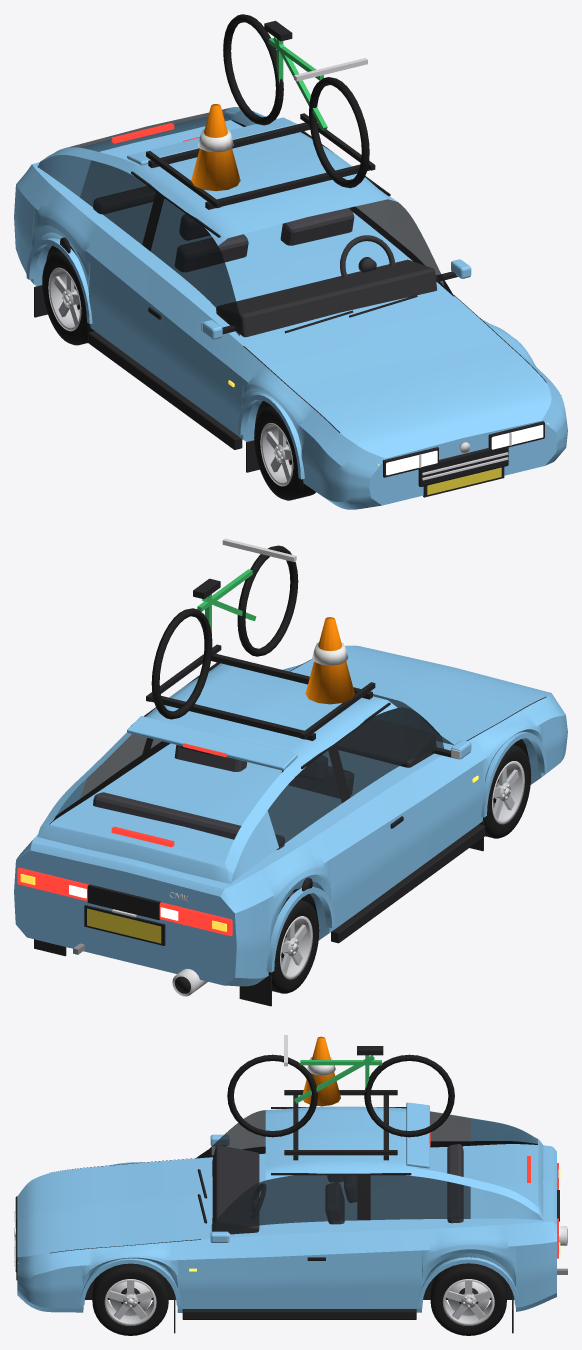
The model's file is civik.glb.
3 views of the same model, one above another, from view 1: azimuth 30°, elevation 25°; view 2: azimuth 150°, elevation 25°; view 3: azimuth 270°, elevation 25° (orthographic). The views are drawn at different scales.
Parts seen in each view (by area): view 1: hood, tub, cabin_roof, nose, cabin_glass, door_R, quarter_R, dash, fender_R, wheel_FR, wheel_RR, skirt_R (+19 smaller); view 2: tail, tub, cabin_roof, cabin_glass, door_R, quarter_R, hood, fender_R, spoiler, wheel_RR, dash, wheel_FR (+20 smaller); view 3: tub, hood, cabin_glass, cabin_roof, door_L, quarter_L, fender_L, wheel_RL, wheel_FL, nose, dash, tail (+15 smaller).
Part boxes in pixels (<box>): hood: <box>244,295,545,432</box>; tub: <box>41,126,451,345</box>; cabin_roof: <box>37,107,397,245</box>; nose: <box>323,383,567,509</box>; cabin_glass: <box>67,107,443,335</box>; door_R: <box>129,264,243,428</box>; quarter_R: <box>25,175,145,357</box>; dash: <box>216,259,436,337</box>; fender_R: <box>227,347,339,504</box>; wheel_FR: <box>254,406,316,500</box>; wheel_RR: <box>42,248,94,345</box>; skirt_R: <box>88,331,242,449</box>; tail: <box>14,834,259,986</box>; tub: <box>50,743,450,879</box>; cabin_roof: <box>37,663,397,883</box>; cabin_glass: <box>80,694,453,847</box>; door_R: <box>355,755,469,903</box>; quarter_R: <box>243,810,371,986</box>; hood: <box>290,648,545,747</box>; fender_R: <box>461,697,562,831</box>; spoiler: <box>127,716,297,770</box>; wheel_RR: <box>268,897,319,993</box>; dash: <box>337,718,436,767</box>; wheel_FR: <box>483,745,531,838</box>; tub: <box>201,1144,529,1239</box>; hood: <box>49,1158,200,1252</box>; cabin_glass: <box>211,1110,470,1231</box>; cabin_roof: <box>265,1106,543,1220</box>; door_L: <box>201,1231,357,1308</box>; quarter_L: <box>357,1223,529,1312</box>; fender_L: <box>49,1240,200,1312</box>; wheel_RL: <box>430,1263,506,1335</box>; wheel_FL: <box>92,1263,168,1335</box>; nose: <box>17,1173,49,1311</box>; dash: <box>212,1145,259,1234</box>; tail: <box>530,1144,556,1308</box>.
Bounding box in the file's own units: 1.82 × 2.16 × 4.21.
